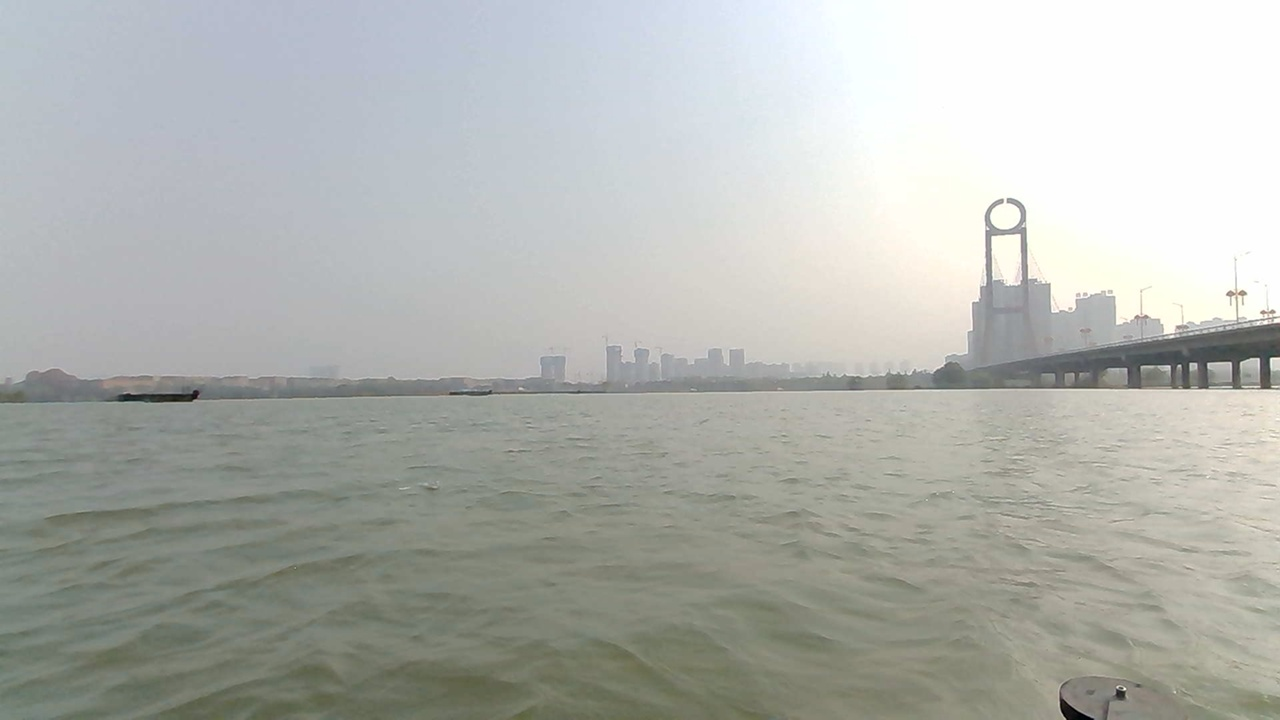bottle: (378, 468, 476, 516)
